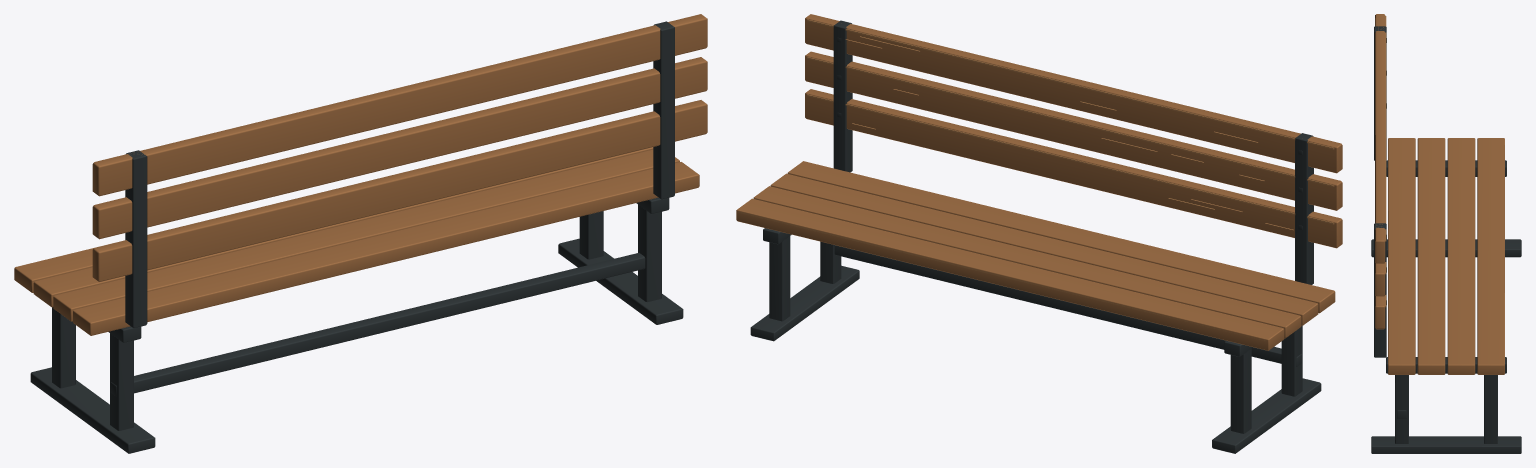
The model's file is harbour-bench.glb.
The picture shows the model from 3 angles, left to right: view 1: azimuth 30°, elevation 25°; view 2: azimuth 150°, elevation 25°; view 3: azimuth 270°, elevation 25°; orthographic projection. The views are drawn at different scales.
Parts seen in each view (by area): view 1: Harbour / warm worn cedar, Harbour / dark painted iron; view 2: Harbour / warm worn cedar, Harbour / dark painted iron, Harbour / weathered cedar edges; view 3: Harbour / warm worn cedar, Harbour / dark painted iron, Harbour / weathered cedar edges.
Boxes of the visible parts, box(x1,y1,x2,y2) form: Harbour / warm worn cedar: box(14, 14, 707, 335); Harbour / dark painted iron: box(30, 21, 683, 453); Harbour / warm worn cedar: box(736, 14, 1342, 350); Harbour / dark painted iron: box(750, 20, 1321, 453); Harbour / weathered cedar edges: box(738, 19, 1334, 341); Harbour / warm worn cedar: box(1375, 14, 1504, 374); Harbour / dark painted iron: box(1371, 26, 1521, 453); Harbour / weathered cedar edges: box(1385, 16, 1386, 307).
Bounding box in the file's own units: 2.08 × 0.9556 × 0.5824.
